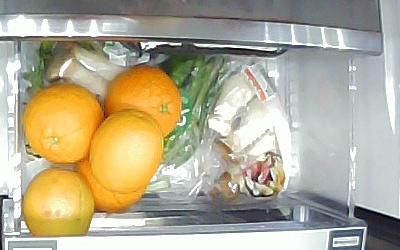orange: (21, 83, 102, 163), (89, 108, 162, 193), (105, 65, 182, 137), (22, 167, 94, 237), (73, 152, 147, 211)
